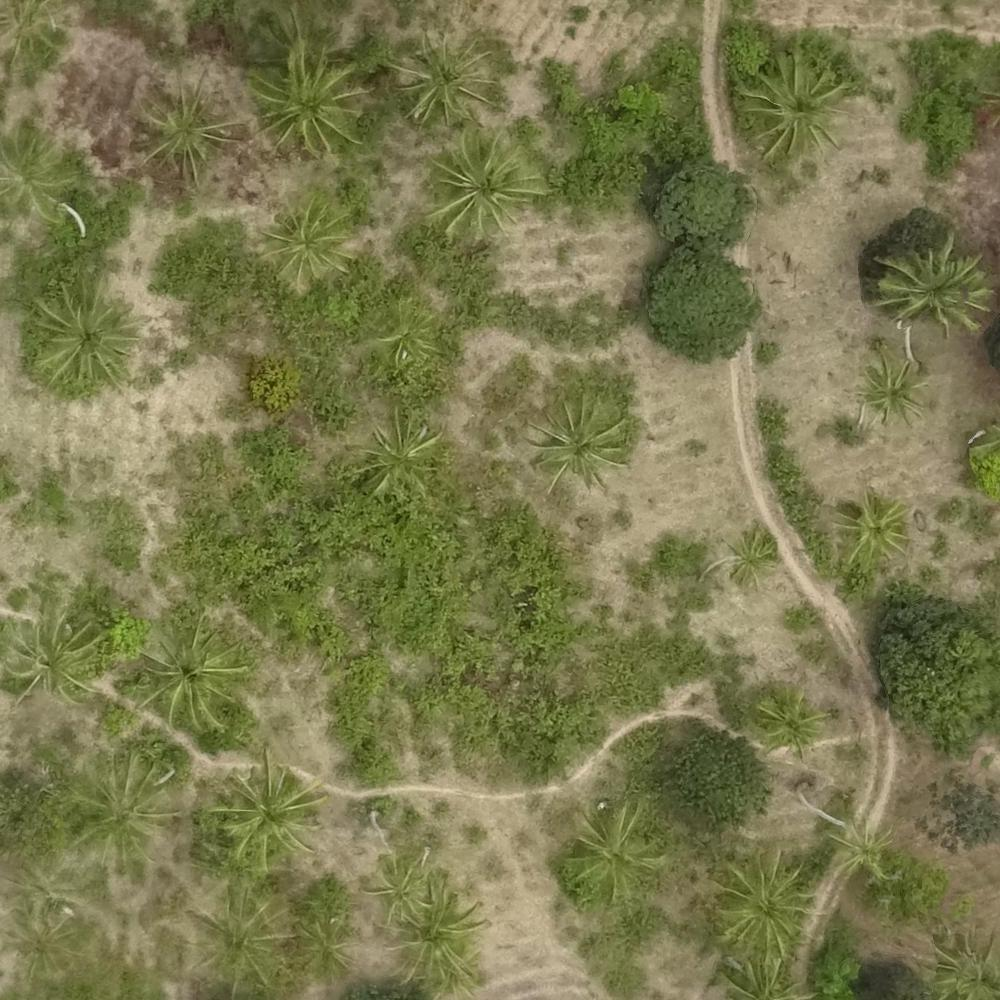Palm: (247, 43, 362, 158), (30, 278, 142, 392), (737, 51, 850, 159), (425, 134, 537, 238), (879, 233, 993, 334), (137, 619, 244, 726), (219, 757, 325, 864), (61, 756, 167, 862), (715, 852, 818, 955), (187, 888, 288, 993), (137, 74, 234, 182), (563, 800, 668, 899), (391, 33, 498, 129), (529, 390, 627, 488), (4, 604, 103, 698), (386, 882, 482, 973), (261, 193, 353, 284), (1, 126, 77, 231), (353, 413, 438, 494), (833, 491, 913, 565), (919, 928, 1000, 1000), (853, 352, 933, 424), (359, 855, 434, 926), (370, 293, 442, 366), (1, 5, 69, 77), (755, 690, 826, 757), (834, 817, 902, 881), (295, 915, 363, 976), (722, 529, 779, 584)
